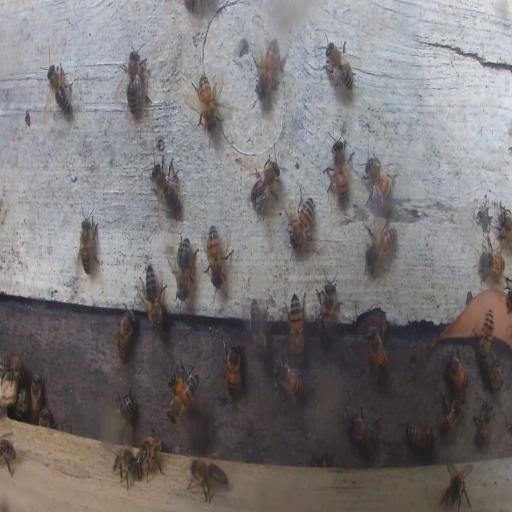bee: (150, 156, 184, 216), (326, 126, 351, 204), (364, 217, 397, 276), (346, 406, 382, 459), (120, 43, 146, 116), (138, 262, 166, 329), (322, 38, 356, 93), (253, 40, 284, 100), (194, 69, 221, 137), (203, 222, 230, 288), (250, 155, 280, 214), (187, 458, 229, 500), (440, 460, 474, 511), (288, 191, 316, 252), (168, 373, 200, 426), (316, 271, 339, 344), (363, 154, 397, 201), (46, 62, 72, 118), (173, 232, 196, 294), (274, 356, 304, 403), (113, 444, 141, 490), (114, 306, 136, 363), (248, 300, 268, 362), (138, 431, 164, 476), (366, 324, 389, 373), (471, 401, 494, 449), (223, 340, 243, 395), (288, 292, 304, 358), (80, 214, 97, 276), (438, 394, 462, 435), (445, 352, 469, 392), (404, 423, 435, 452), (476, 248, 505, 278), (480, 307, 494, 360), (0, 353, 22, 383), (117, 390, 135, 426), (0, 436, 17, 474), (30, 373, 44, 417), (489, 355, 502, 390), (499, 208, 511, 244), (13, 386, 27, 416), (38, 407, 52, 427), (312, 449, 328, 466)
